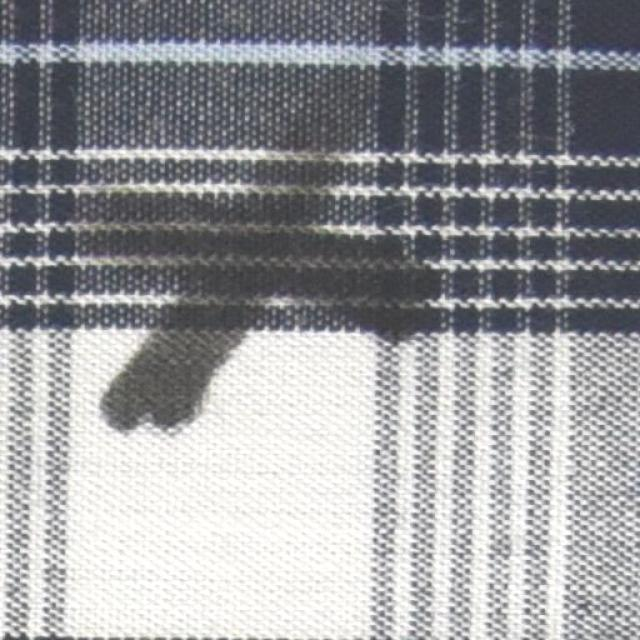Stain: (62, 77, 443, 445)
